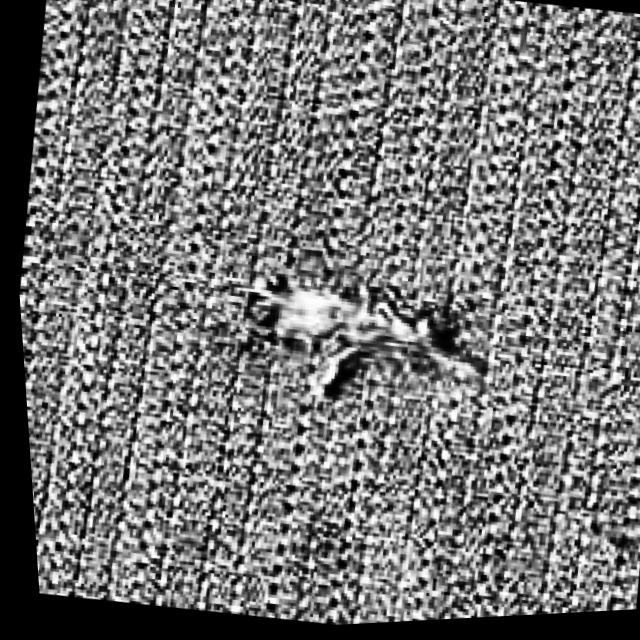Hole: (196, 242, 525, 452)
